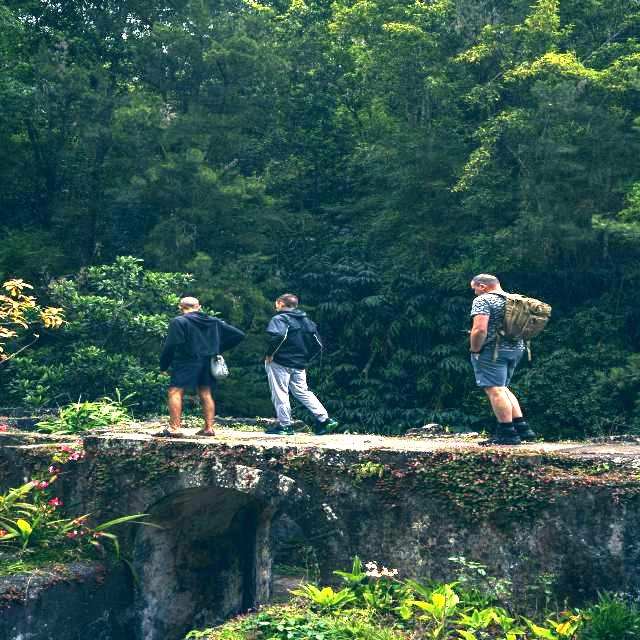no_head_wear: (472, 273, 500, 289), (277, 293, 298, 308), (179, 297, 199, 310)
person: (464, 271, 545, 444), (255, 298, 341, 435), (163, 295, 241, 442)
